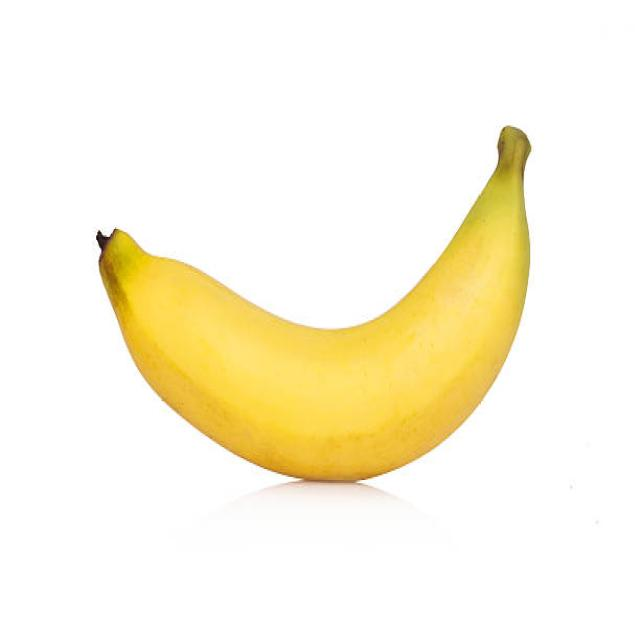Ripe: (91, 124, 533, 486)
